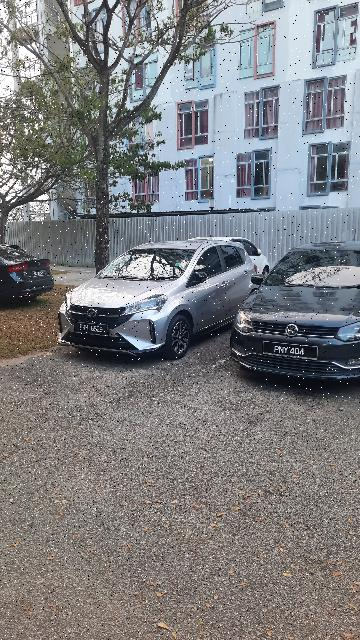License_Plate: (261, 341, 321, 362), (74, 321, 110, 337)
car: (49, 233, 263, 362), (233, 234, 360, 384)
